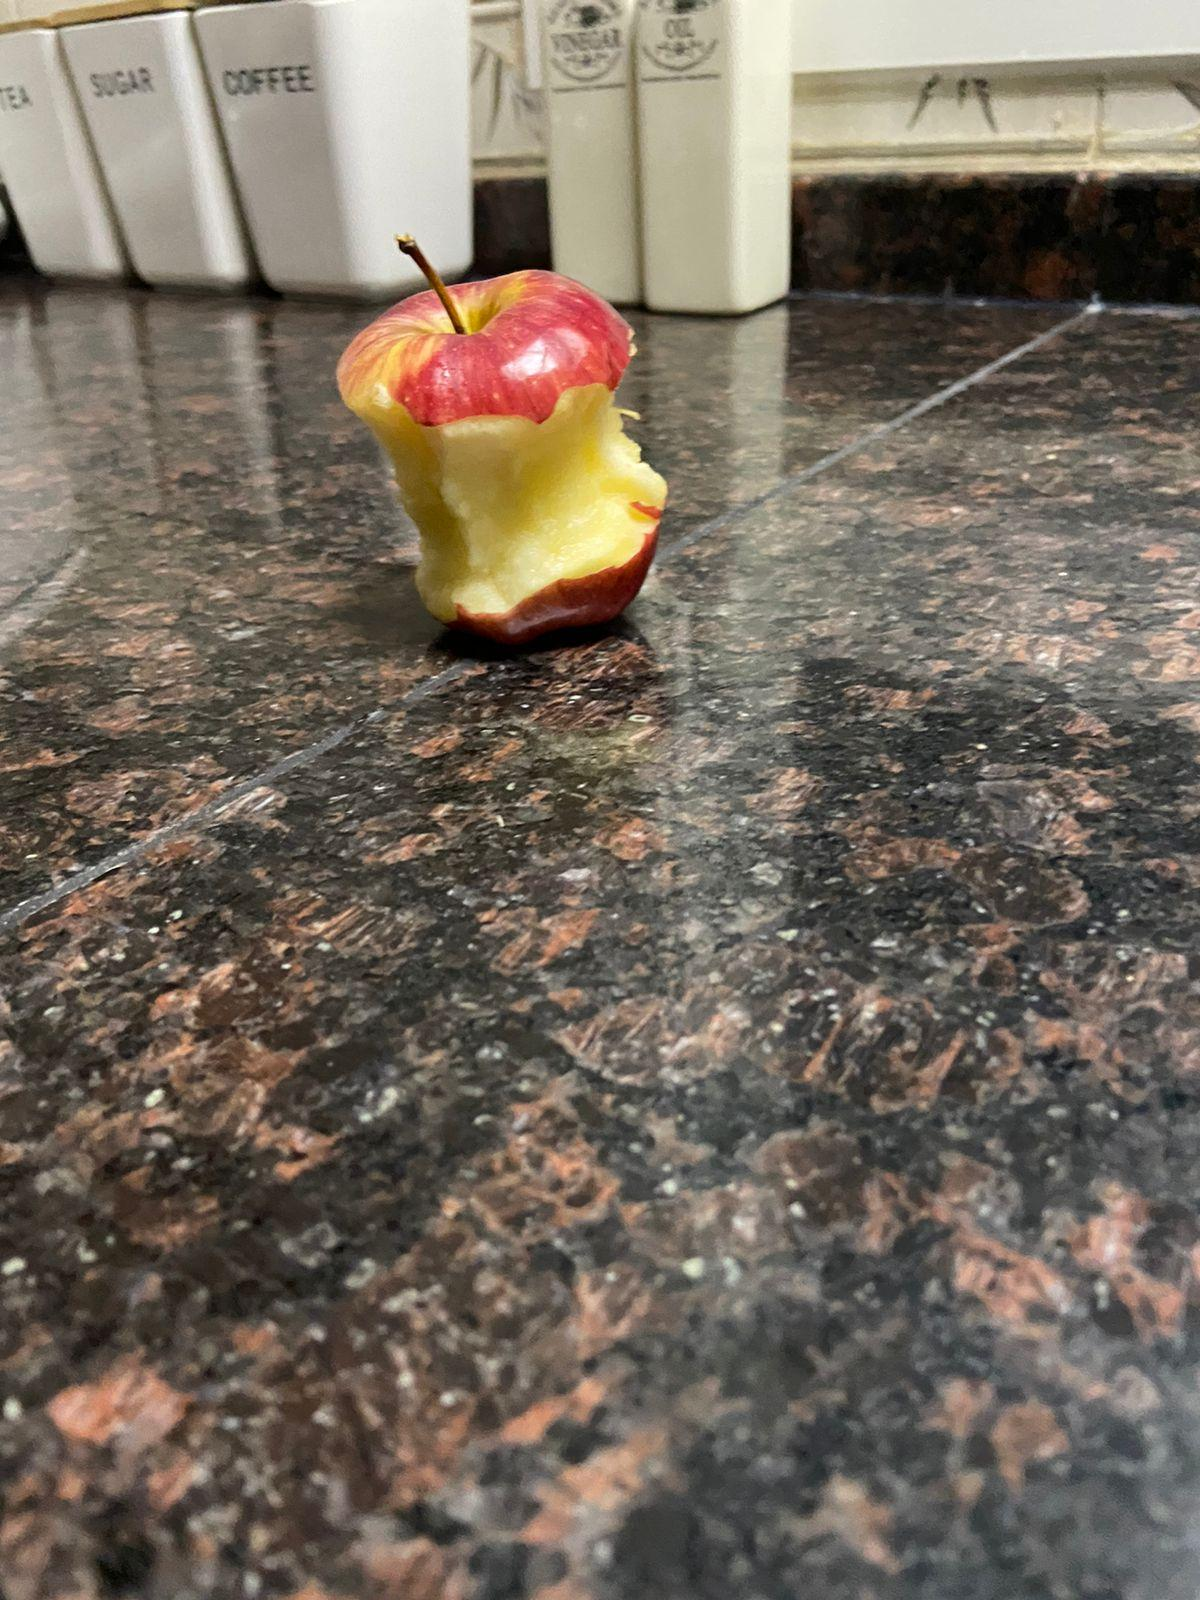Apple: (308, 227, 677, 650)
